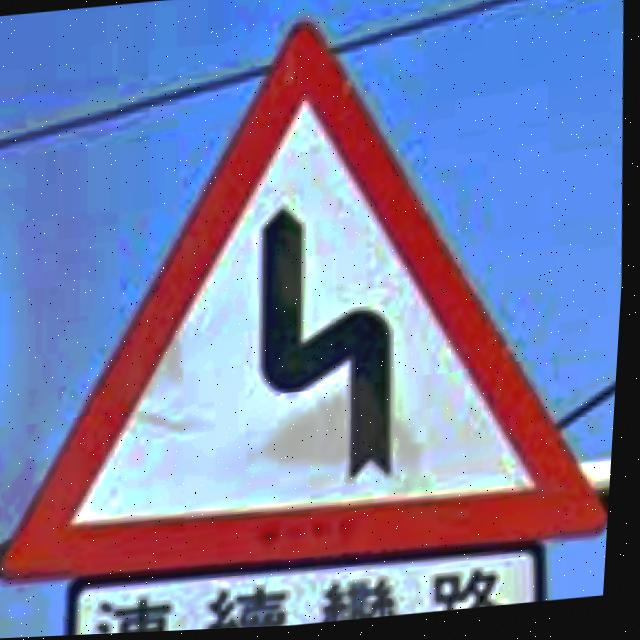doublebendleft: (4, 25, 615, 584)
